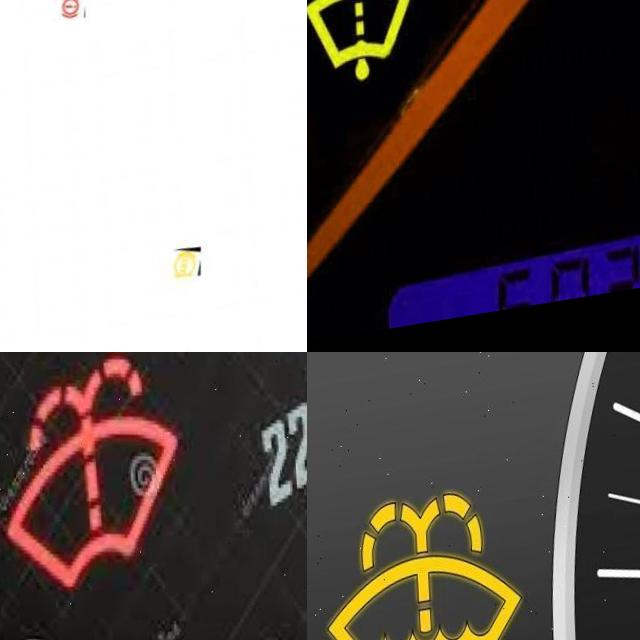Washer Fluid: (0, 359, 178, 600), (307, 0, 412, 95)
